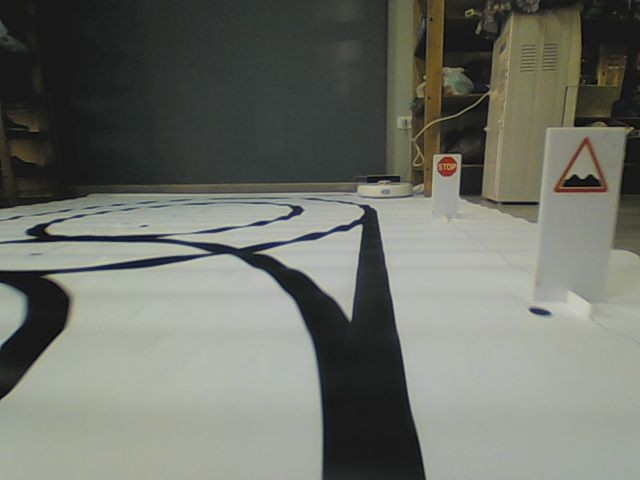Stop: (435, 154, 457, 176)
